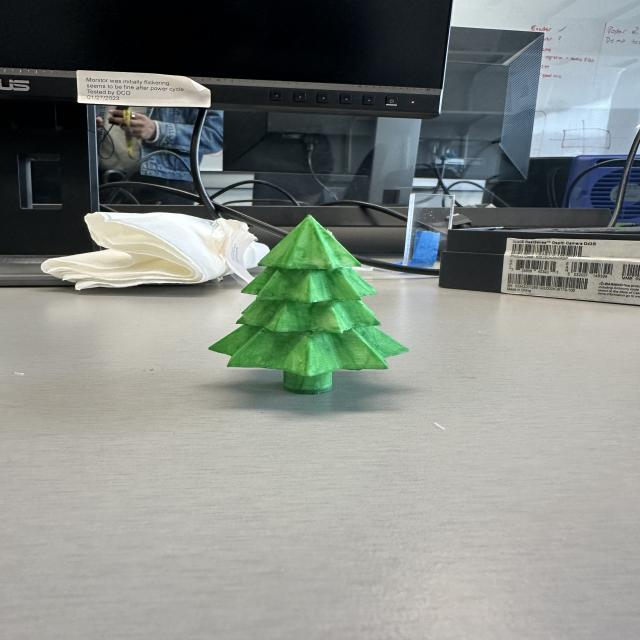tree: (208, 214, 410, 396)
